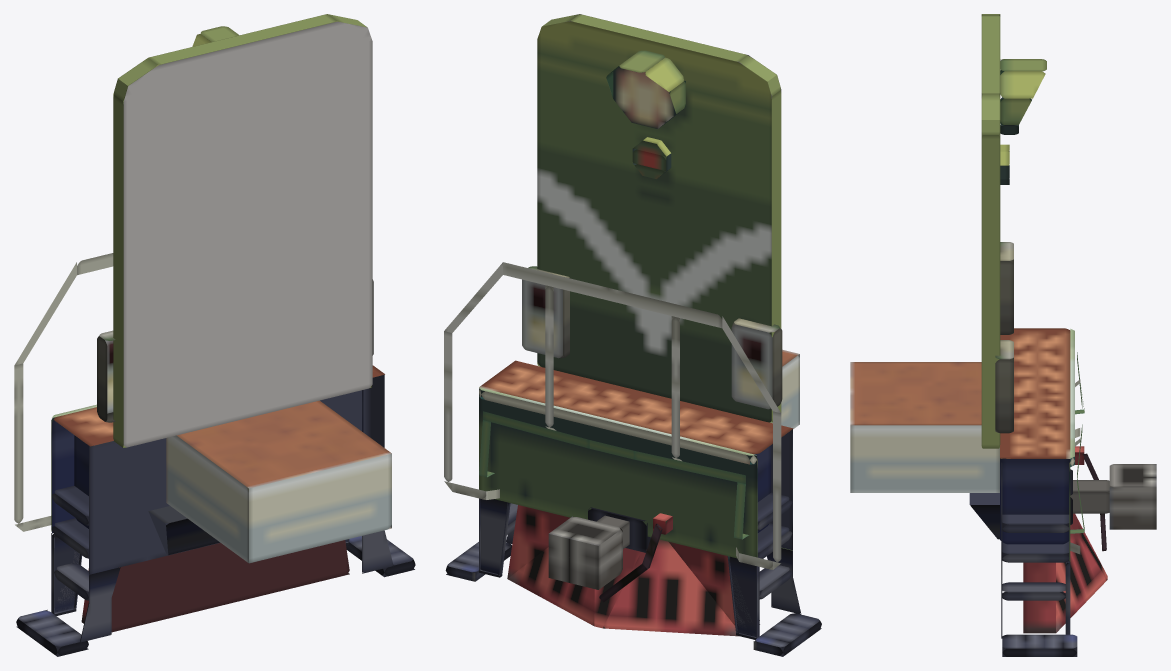
Rendered from dfh21_end_face.obj.
The picture shows the model from 3 angles, left to right: view 1: azimuth 30°, elevation 25°; view 2: azimuth 150°, elevation 25°; view 3: azimuth 270°, elevation 25°; orthographic projection. The views are drawn at different scales.
Parts seen in each view (by area): view 1: cuboid_selection_selection; view 2: cuboid_selection_selection; view 3: cuboid_selection_selection.
Boxes of the visible parts, x1,y1,x2,y2 form: cuboid_selection_selection: [14, 14, 415, 656]; cuboid_selection_selection: [444, 14, 821, 656]; cuboid_selection_selection: [850, 14, 1156, 656].
Size of the model in its own units: 2.5 by 3.86 by 2.05.
